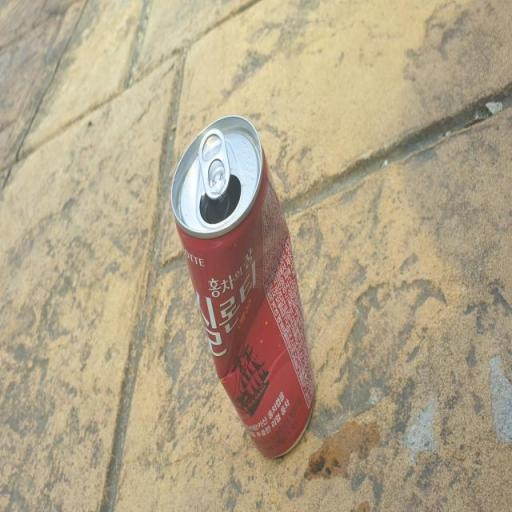metal: (159, 95, 323, 476)
